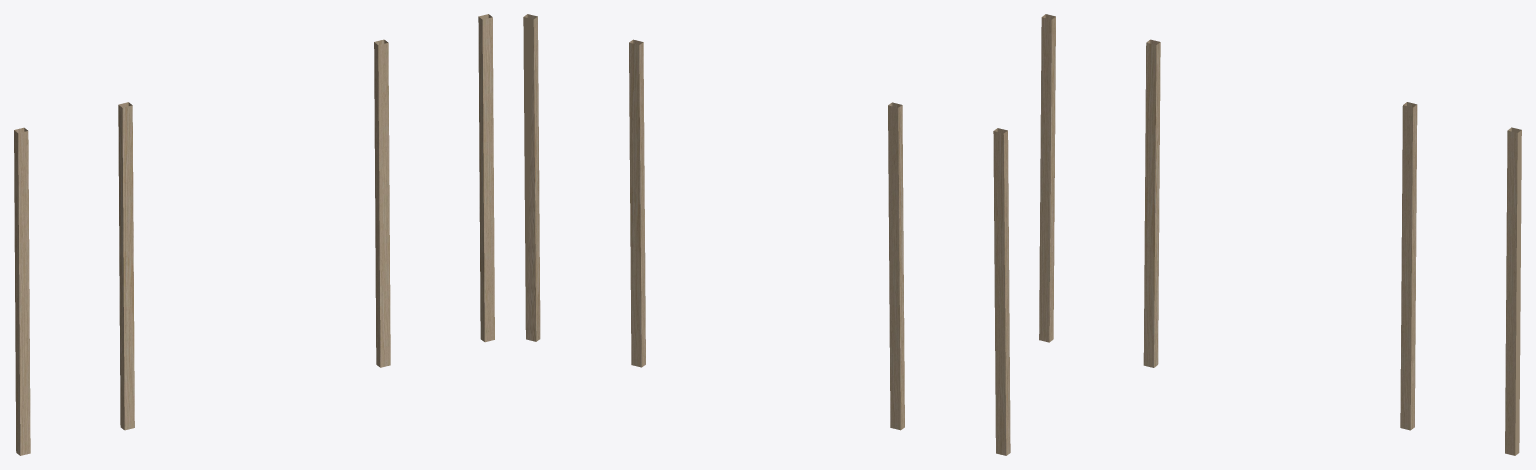
The model's file is Ofuda_Tiang.fbx.
3 renders of one model, left to right at view 1: azimuth 30°, elevation 25°; view 2: azimuth 150°, elevation 25°; view 3: azimuth 330°, elevation 25°, orthographic.
Visible parts, largest first — view 1: tiang; view 2: tiang; view 3: tiang.
Part boxes in pixels (x1,y1,x2,y2): tiang: (14, 14, 494, 455); tiang: (523, 14, 1010, 455); tiang: (1039, 14, 1521, 455).
Size of the model in its own units: 1000 by 646 by 25.48.
